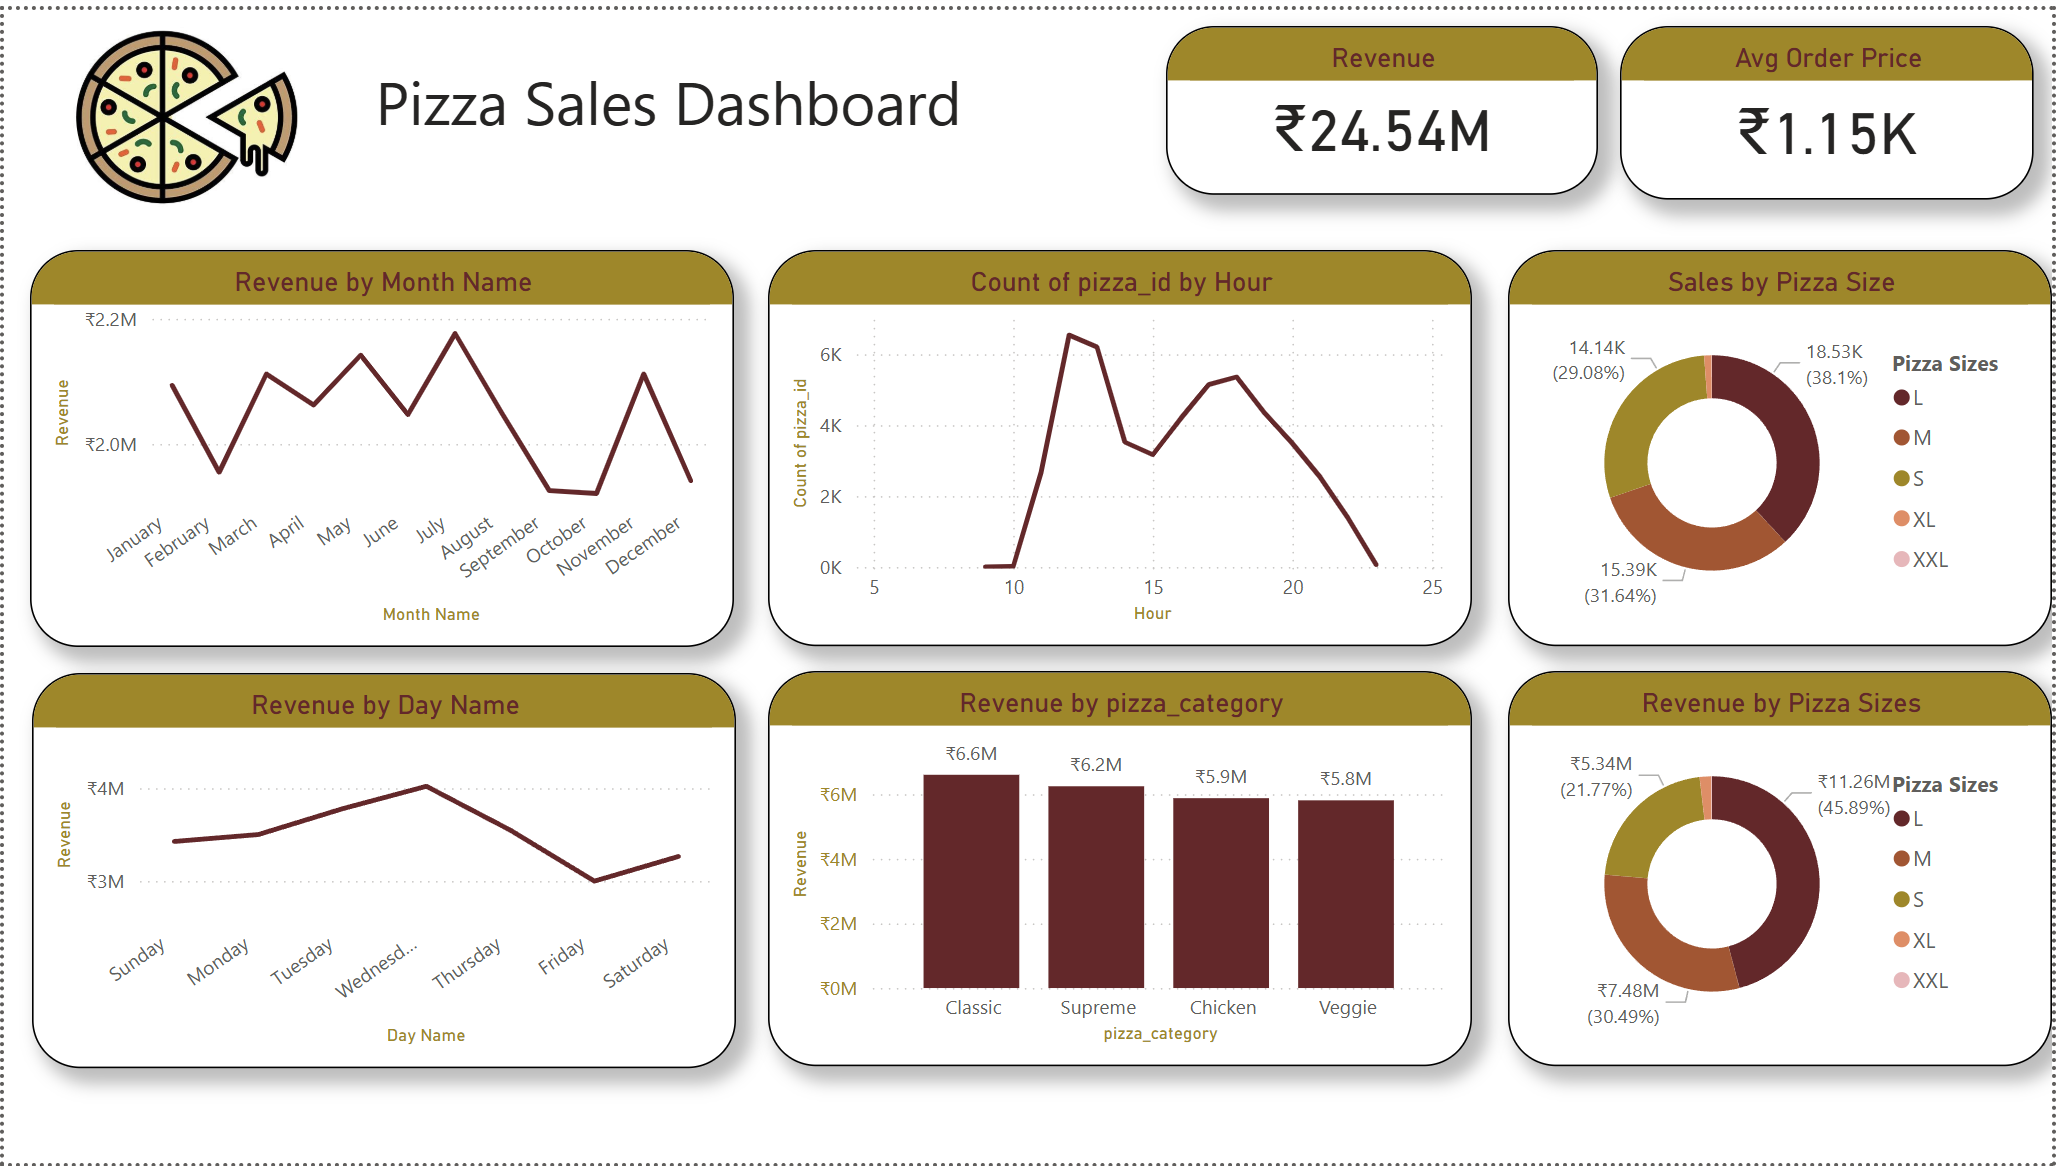

What the dashboard file says about the page in this screenshot:
{"tool":"powerbi","page":{"name":"Page 1","canvas":[1280,720],"ordinal":0},"visuals":[{"type":"card","title":"Revenue","fields":{"Values":["Dataset.Revenue"]},"box":[725.7,10,270,105.7],"z":0},{"type":"lineChart","fields":{"Y":["Dataset.Revenue"],"Category":["Dataset.Month Name"]},"box":[16.6,150.4,439.8,247.3],"z":1000},{"type":"lineChart","fields":{"Category":["Dataset.Hour"],"Y":["CountNonNull(Dataset.pizza_id)"]},"box":[477.1,150,440,247.1],"z":2000},{"type":"lineChart","fields":{"Category":["Dataset.Day Name"],"Y":["Dataset.Revenue"]},"box":[17,413.5,440,247],"z":3000},{"type":"columnChart","fields":{"Y":["Dataset.Revenue"],"Category":["Dataset.pizza_category"]},"box":[477.1,412.9,440,247.1],"z":4000},{"type":"card","title":"Avg Order Price","fields":{"Values":["Dataset.AOV"]},"box":[1010,10,258.6,108.6],"z":5000},{"type":"textbox","box":[211.4,25.7,428.6,85.7],"z":6000},{"type":"image","box":[32.9,0,168.6,131.4],"z":7000},{"type":"donutChart","fields":{"Category":["Dataset.Pizza Sizes"],"Y":["Dataset.Revenue"]},"box":[940,412.9,340,247.1],"z":8000},{"type":"donutChart","title":"Sales by Pizza Size","fields":{"Category":["Dataset.Pizza Sizes"],"Y":["CountNonNull(Dataset.Pizza Sizes)"]},"box":[940,150,340,247.1],"z":9000}]}

Visuals, with their boxes in screenshot pixels (x1, y1, x2, y2), scaled from the page's 1280x720 canvas onto the 2056x1166 screenshot:
"Revenue" card: <box>1166,16,1599,187</box>
lineChart - Dataset.Revenue x Dataset.Month Name: <box>27,244,733,644</box>
lineChart - Dataset.Hour x CountNonNull(Dataset.pizza_id): <box>766,243,1473,643</box>
lineChart - Dataset.Day Name x Dataset.Revenue: <box>27,670,734,1070</box>
columnChart - Dataset.Revenue x Dataset.pizza_category: <box>766,669,1473,1069</box>
"Avg Order Price" card: <box>1622,16,2038,192</box>
textbox: <box>340,42,1028,180</box>
image: <box>53,0,324,213</box>
donutChart - Dataset.Pizza Sizes x Dataset.Revenue: <box>1510,669,2055,1069</box>
"Sales by Pizza Size" donutChart: <box>1510,243,2055,643</box>
